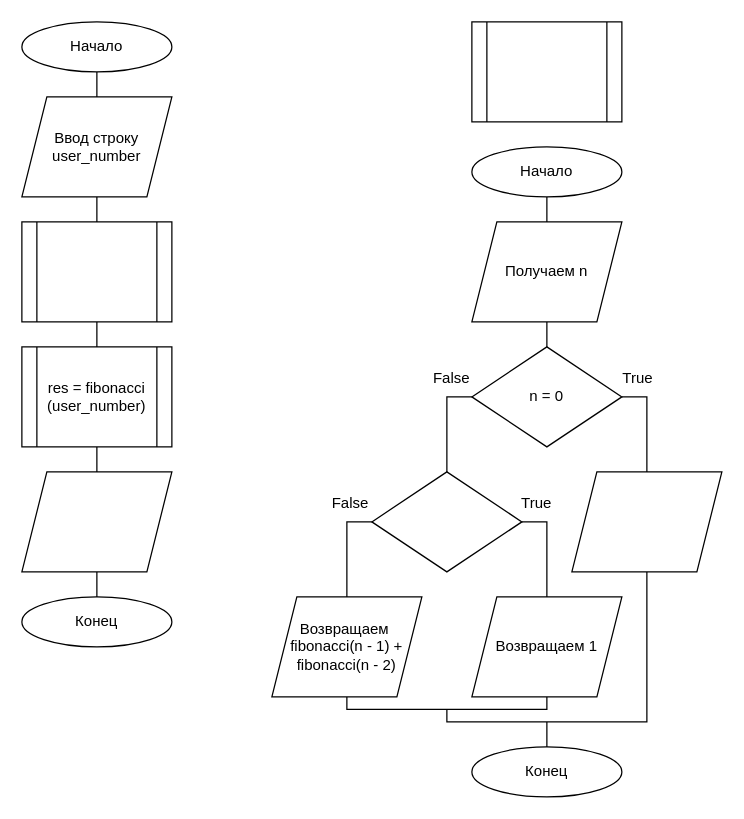
The diagram is 744 pixels wide and 819 high, and some of its shapes have lost their labels. Each missing label, with the box of its shape:
fibonacci(n): (471, 21, 622, 122)
n = 1: (371, 471, 522, 572)
Возвращаем 0: (571, 471, 722, 572)
Вывод res: (21, 471, 172, 572)
Ищем запрошенный элемент ряда Фибоначчи: (21, 221, 172, 322)
